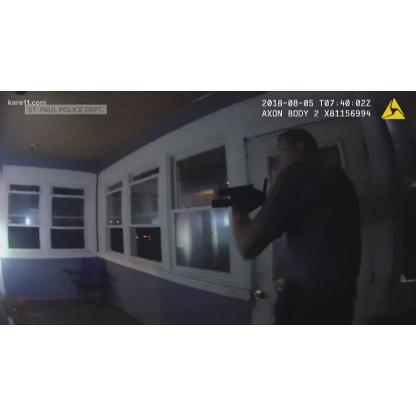gun: (208, 177, 272, 237)
